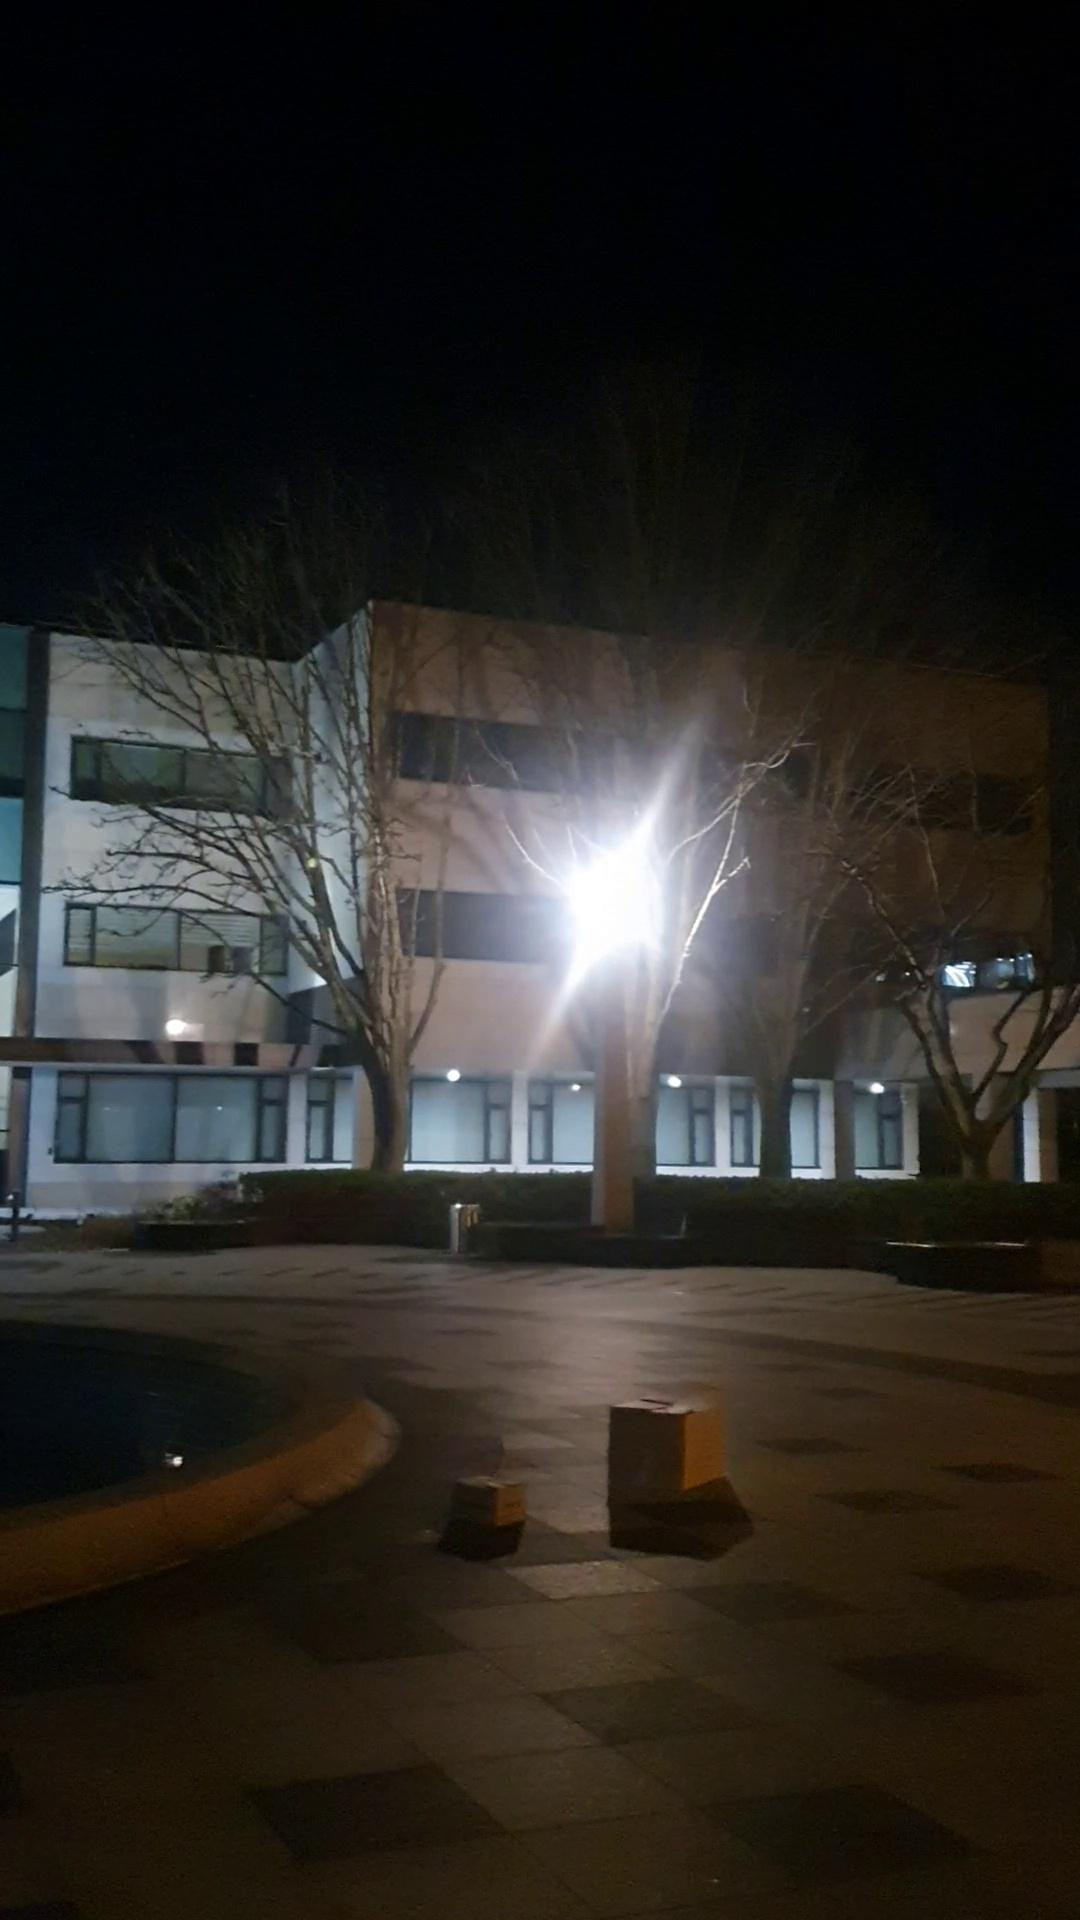Box: (601, 1379, 732, 1522), (421, 1462, 533, 1538)
